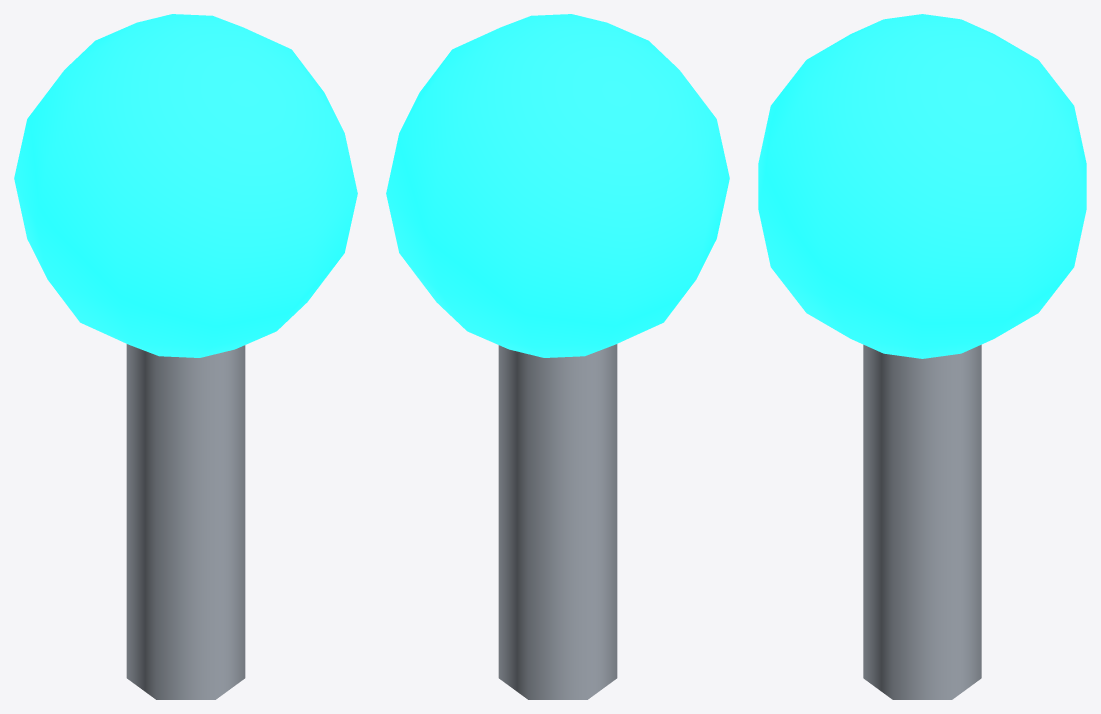
The model's file is tower_skywatch_range_s2.glb.
3 views of the same model, side by side, from view 1: azimuth 30°, elevation 25°; view 2: azimuth 150°, elevation 25°; view 3: azimuth 270°, elevation 25° (orthographic).
Visible parts, largest first — view 1: skywatch_iff_lamp, skywatch_iff_lamp_stalk; view 2: skywatch_iff_lamp, skywatch_iff_lamp_stalk; view 3: skywatch_iff_lamp, skywatch_iff_lamp_stalk.
Boxes of the visible parts, box(x1,y1,x2,y2) form: skywatch_iff_lamp: box(14, 14, 357, 357); skywatch_iff_lamp_stalk: box(126, 344, 245, 699); skywatch_iff_lamp: box(386, 14, 729, 357); skywatch_iff_lamp_stalk: box(498, 344, 617, 699); skywatch_iff_lamp: box(758, 14, 1086, 358); skywatch_iff_lamp_stalk: box(863, 344, 981, 699).
Bounding box in the file's own units: 0.07 × 0.145 × 0.0666.
